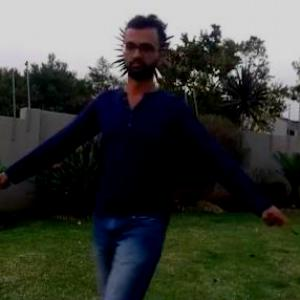land: (16, 39, 258, 284)
